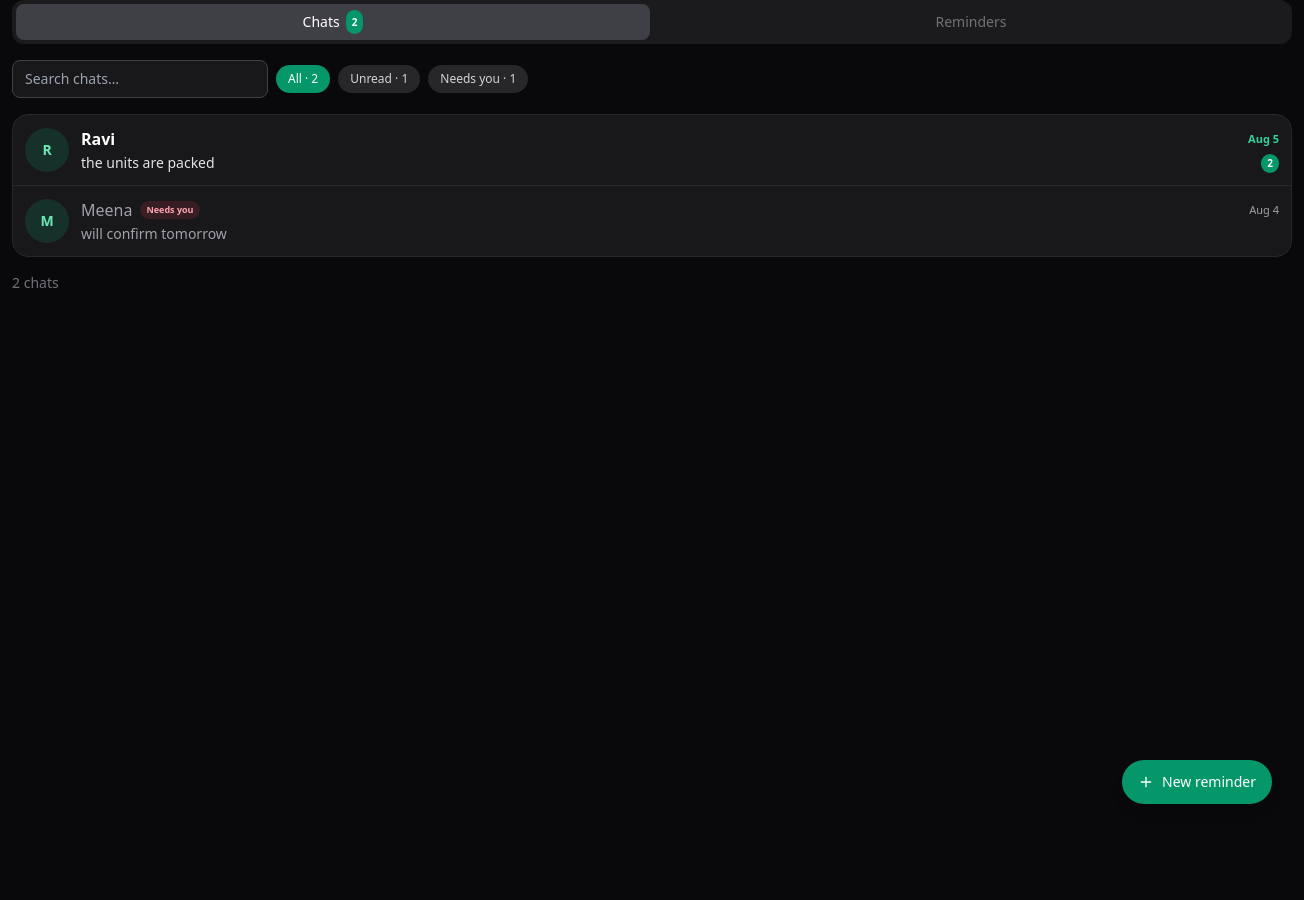
it: the chats inbox gets search and chips, and stays an inbox (BEA-1287) › search matches the name and the last message
The width and height of the screenshot is (1304, 900).
Expected: the text "Ravi" is shown, [81, 127, 115, 151]
Type "confirm tomorrow" into the field labelled "Search chats".
click(140, 79); type("confirm tomorrow")  # box [12, 60, 268, 98]
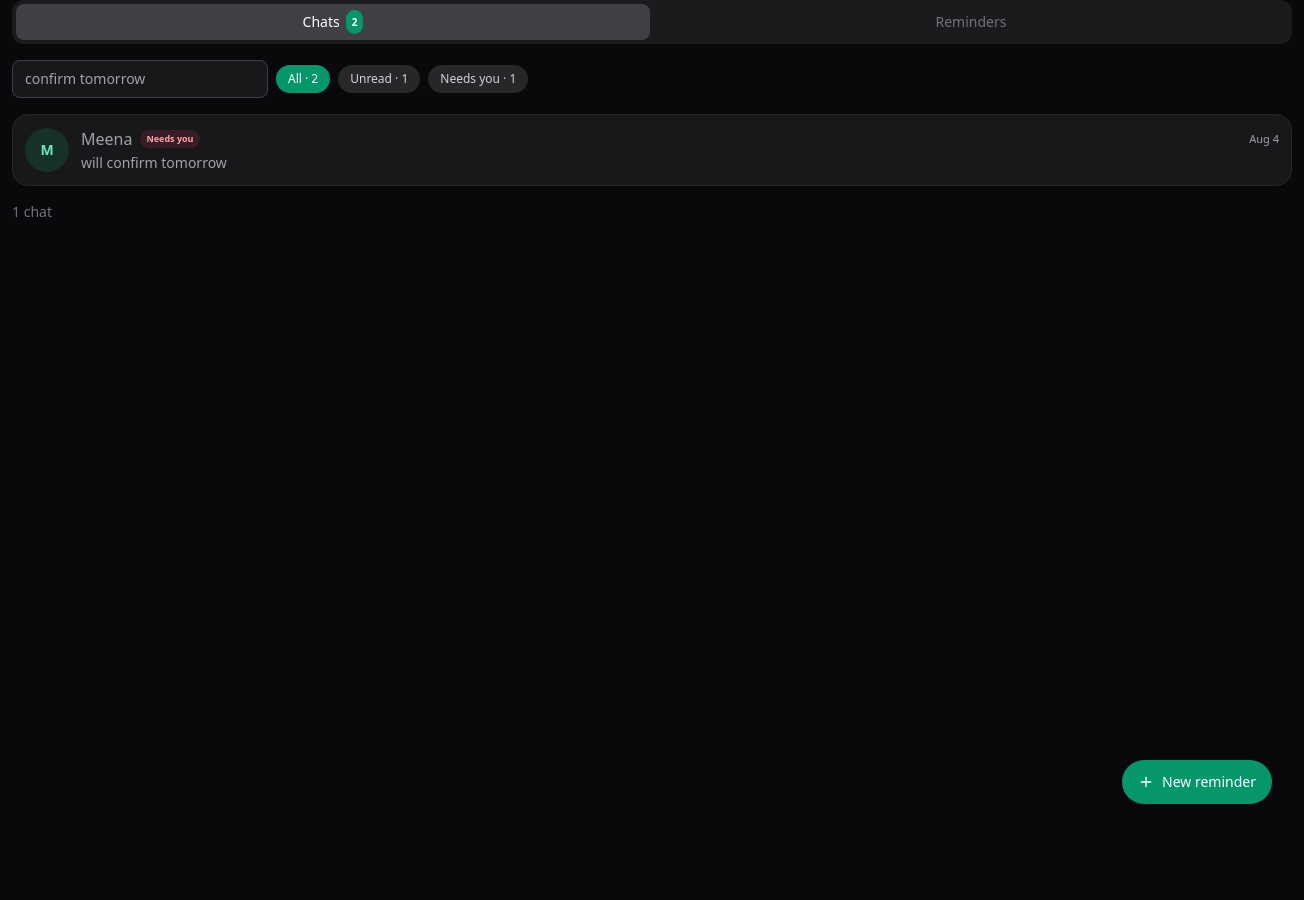
Expected: the text "Meena" is shown, [81, 127, 132, 151]
Expected: the button "Ravi" is gone
Expected: the text with test id "chats-count" reads "1 chat", [12, 202, 52, 222]
